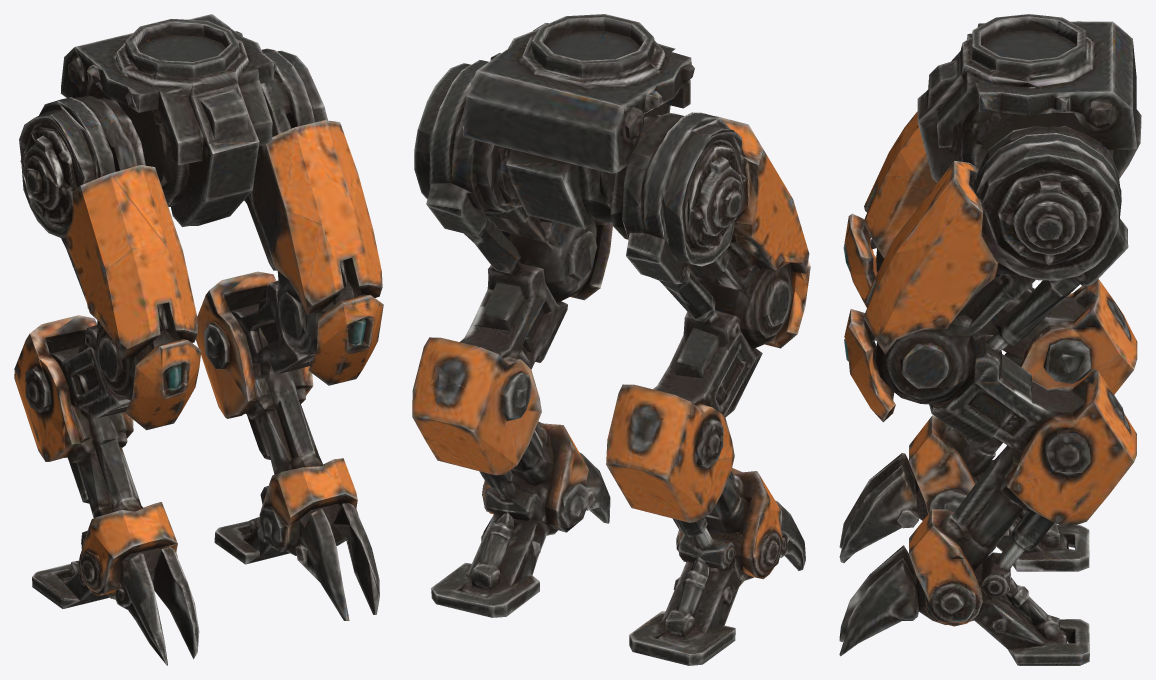
File: leg.glb
3 views of the same model, side by side, from view 1: azimuth 30°, elevation 25°; view 2: azimuth 150°, elevation 25°; view 3: azimuth 270°, elevation 25° (orthographic). The views are drawn at different scales.
Visible parts, largest first — view 1: Mesh_0; view 2: Mesh_0; view 3: Mesh_0.
Part boxes in pixels (x1,y1,x2,y2): Mesh_0: [14, 14, 383, 665]; Mesh_0: [412, 14, 810, 665]; Mesh_0: [839, 14, 1141, 665].
Bounding box in the file's own units: 0.4993 × 0.9 × 0.4368.
Materials: 1 (1 with a texture image).
